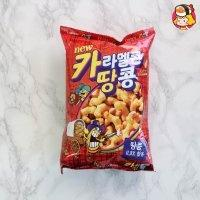snack: (59, 24, 156, 176)
